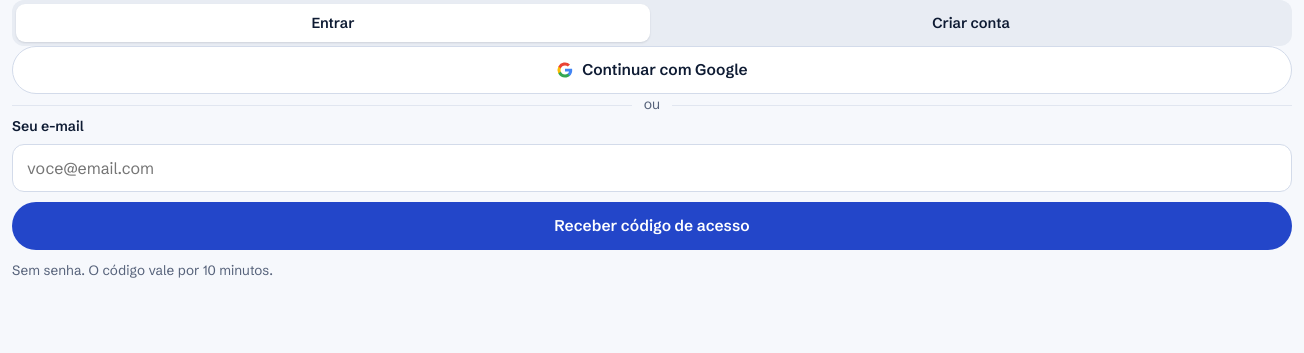
Test: Login por código › entrar com e-mail sem conta: indica Criar conta
Type "nova@email.com" into the field labelled "Seu e-mail" at (652, 168), box [12,144,1292,192]
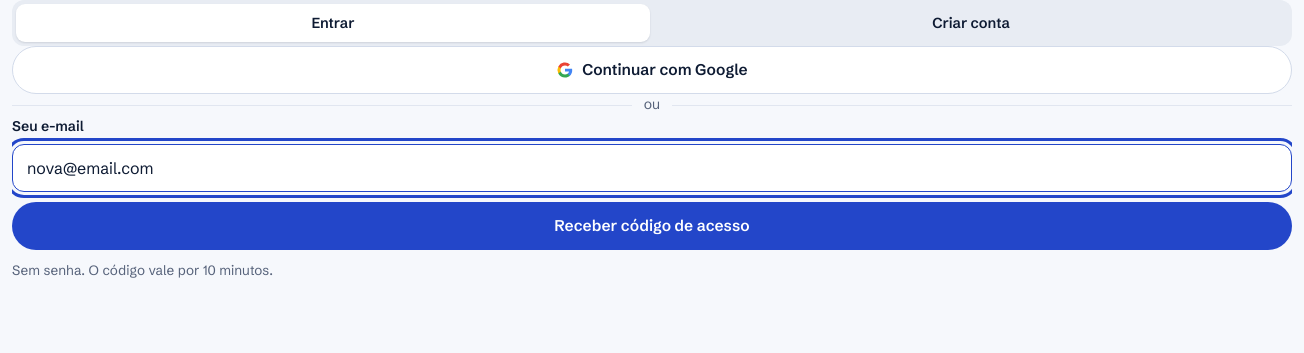
Click the button "Receber código de acesso" at (652, 226), box [12,202,1292,250]
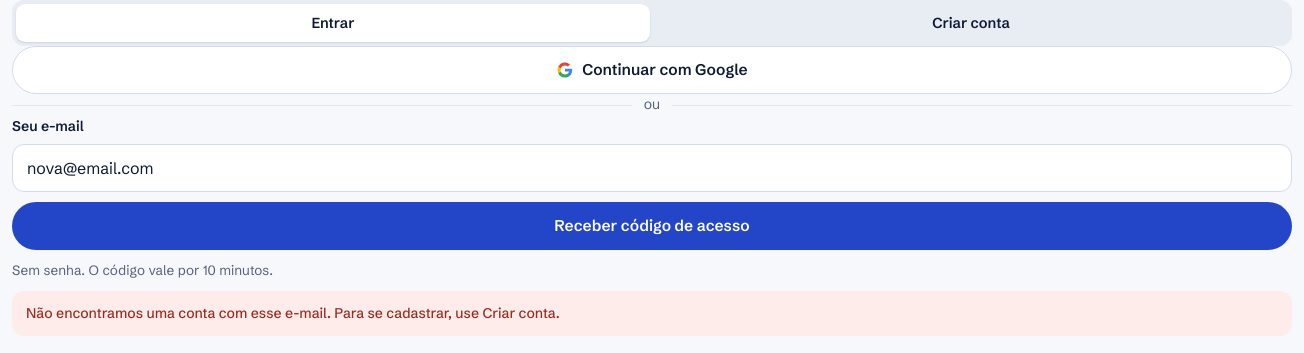
Expected: the message reads "Não encontramos uma conta com esse e-mail. Para se cadastrar, use Criar conta.", [26,304,560,322]
